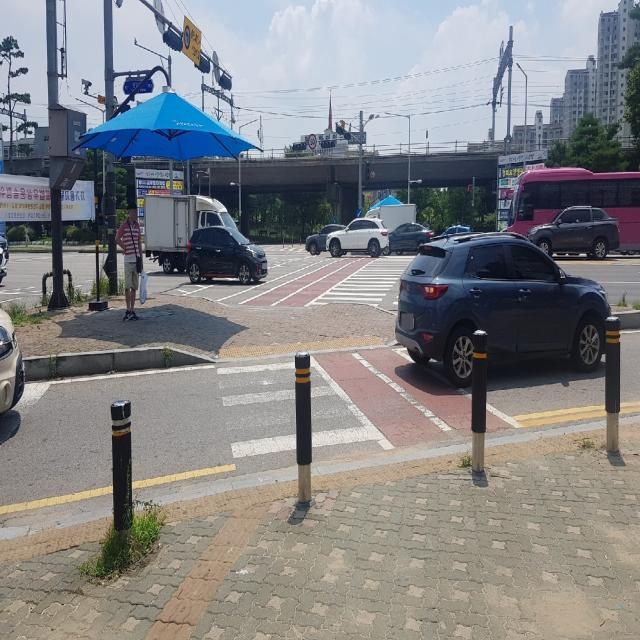횡단보도: (216, 359, 374, 460)
